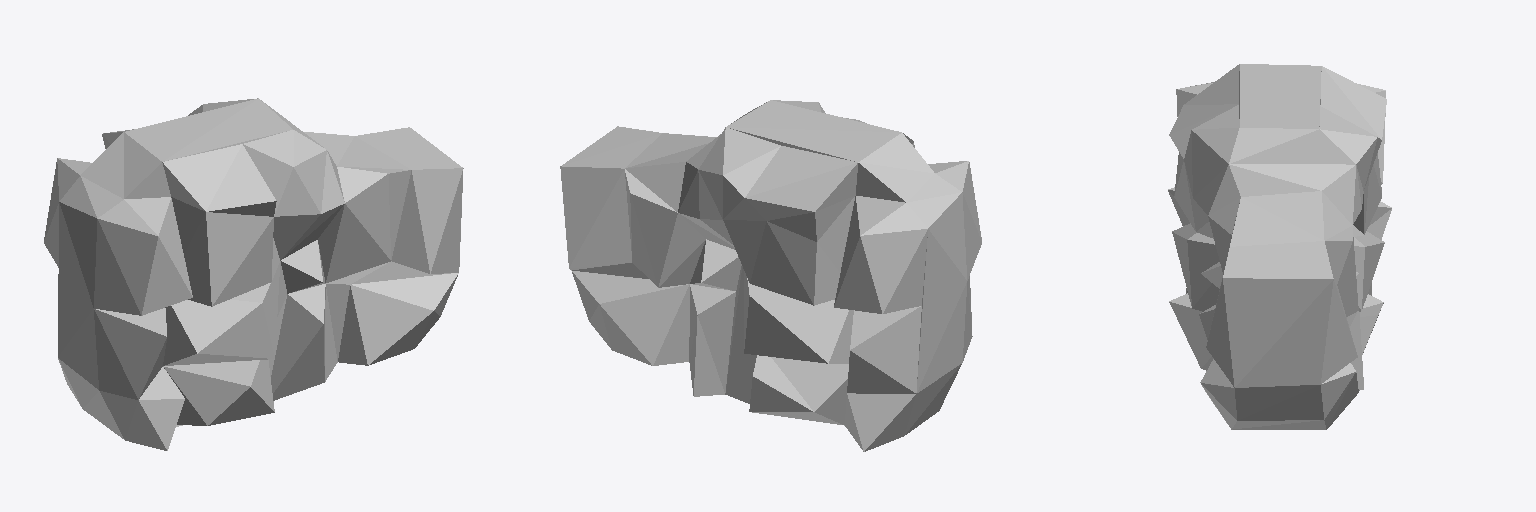
3 views of the same model, side by side, from view 1: azimuth 30°, elevation 25°; view 2: azimuth 150°, elevation 25°; view 3: azimuth 270°, elevation 25° (orthographic).
Parts seen in each view (by area): view 1: unknown; view 2: unknown; view 3: unknown.
Boxes of the visible parts, box(x1,y1,x2,y2) form: unknown: box(44, 98, 463, 450); unknown: box(560, 100, 981, 451); unknown: box(1168, 64, 1391, 429).
Bounding box in the file's own units: 0.7178 × 0.5224 × 0.3869.